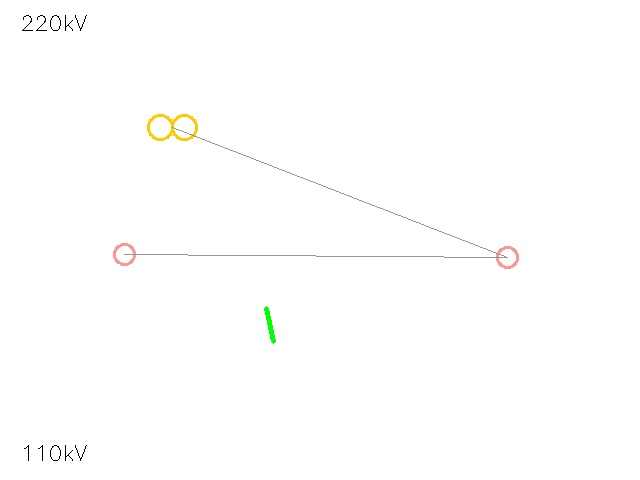busbar: (249, 304, 291, 346)
load_break_switch: (103, 233, 145, 275)
reactor: (486, 236, 528, 278)
transformer_2w: (142, 97, 202, 157)
